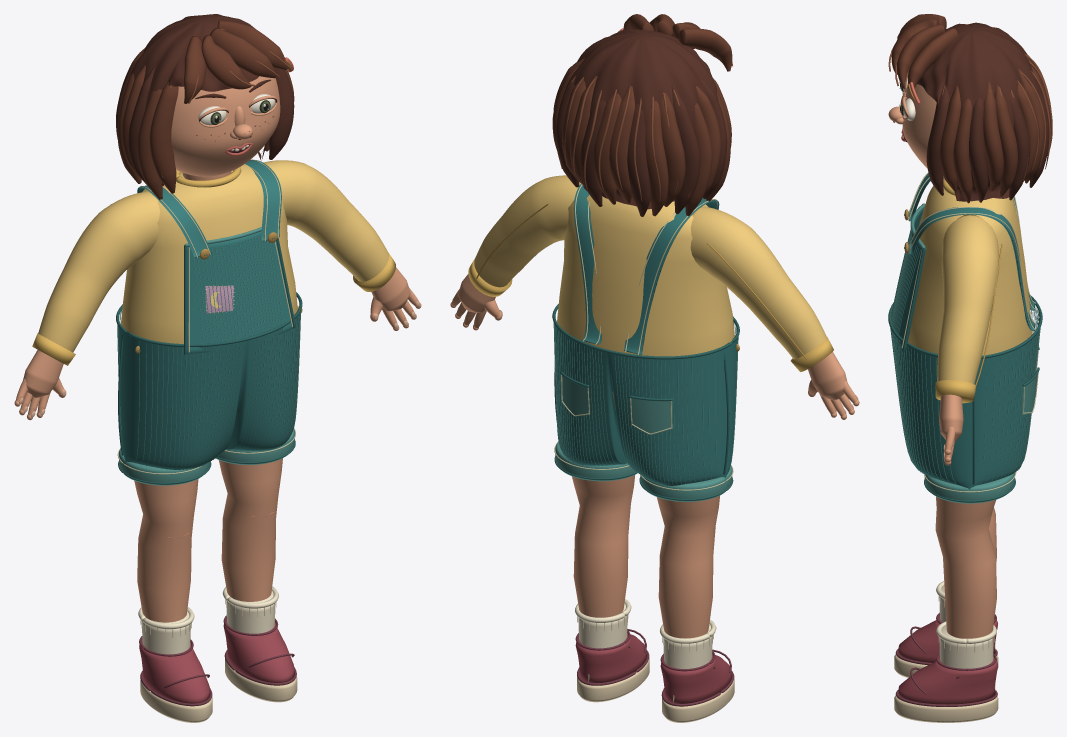
3 views of the same model, side by side, from view 1: azimuth 30°, elevation 25°; view 2: azimuth 150°, elevation 25°; view 3: azimuth 270°, elevation 25° (orthographic).
Visible parts, largest first — view 1: Corduroy overalls / deep sea teal corduroy, Cotton underlayer / butter cotton jersey, Corduroy overalls / rolled teal hems, Head and neck / warm waved locks, Head and neck / warm peach skin, left leg / warm peach skin, right leg / warm peach skin, Head and neck / chestnut hair, left footwear / berry canvas shoes, right footwear / berry canvas shoes, Corduroy overalls / teal seam shadows, left hand / warm peach skin (+10 smaller); view 2: Cotton underlayer / butter cotton jersey, Corduroy overalls / deep sea teal corduroy, Head and neck / chestnut hair, Head and neck / warm waved locks, Corduroy overalls / rolled teal hems, left leg / warm peach skin, right leg / warm peach skin, right footwear / berry canvas shoes, left footwear / berry canvas shoes, Head and neck / subtle caramel ridges, left hand / warm peach skin, Corduroy overalls / teal seam shadows (+7 smaller); view 3: Cotton underlayer / butter cotton jersey, Corduroy overalls / deep sea teal corduroy, Head and neck / chestnut hair, Head and neck / warm waved locks, Corduroy overalls / rolled teal hems, right leg / warm peach skin, right footwear / berry canvas shoes, Head and neck / warm peach skin, right footwear / warm rubber sole, right footwear / cream ankle socks, Corduroy overalls / teal seam shadows, Corduroy overalls / warm contrast stitching (+8 smaller).
Part boxes in pixels (<box>): Corduroy overalls / deep sea teal corduroy: <box>117,160,300,469</box>; Cotton underlayer / butter cotton jersey: <box>38,160,388,352</box>; Corduroy overalls / rolled teal hems: <box>117,227,300,485</box>; Head and neck / warm waved locks: <box>117,21,294,199</box>; Head and neck / warm peach skin: <box>171,76,280,180</box>; left leg / warm peach skin: <box>134,479,198,622</box>; right leg / warm peach skin: <box>219,458,282,601</box>; Head and neck / chestnut hair: <box>116,14,294,185</box>; left footwear / berry canvas shoes: <box>139,639,209,703</box>; right footwear / berry canvas shoes: <box>223,618,294,682</box>; Corduroy overalls / teal seam shadows: <box>116,237,302,484</box>; left hand / warm peach skin: <box>14,350,65,420</box>; Cotton underlayer / butter cotton jersey: <box>474,175,826,408</box>; Corduroy overalls / deep sea teal corduroy: <box>554,183,737,485</box>; Head and neck / chestnut hair: <box>556,29,727,216</box>; Head and neck / warm waved locks: <box>552,14,732,216</box>; Corduroy overalls / rolled teal hems: <box>553,322,738,501</box>; left leg / warm peach skin: <box>657,495,719,638</box>; right leg / warm peach skin: <box>572,475,634,617</box>; right footwear / berry canvas shoes: <box>575,633,646,682</box>; left footwear / berry canvas shoes: <box>660,653,731,703</box>; Head and neck / subtle caramel ridges: <box>557,61,732,201</box>; left hand / warm peach skin: <box>808,352,859,419</box>; Corduroy overalls / teal seam shadows: <box>552,304,739,500</box>; Cotton underlayer / butter cotton jersey: <box>908,185,1032,384</box>; Corduroy overalls / deep sea teal corduroy: <box>892,173,1038,489</box>; Head and neck / chestnut hair: <box>903,22,1049,202</box>; Head and neck / warm waved locks: <box>891,14,1051,203</box>; Corduroy overalls / rolled teal hems: <box>890,203,1040,503</box>; right leg / warm peach skin: <box>935,496,996,638</box>; right footwear / berry canvas shoes: <box>898,656,997,704</box>; Head and neck / warm peach skin: <box>888,83,945,180</box>; right footwear / warm rubber sole: <box>894,637,998,722</box>; right footwear / cream ankle socks: <box>936,621,996,668</box>; Corduroy overalls / teal seam shadows: <box>888,214,1042,502</box>; Corduroy overalls / warm contrast stitching: <box>901,172,1038,492</box>.
Bounding box in the file's own units: 0.8265 × 1.3 × 0.2915.
